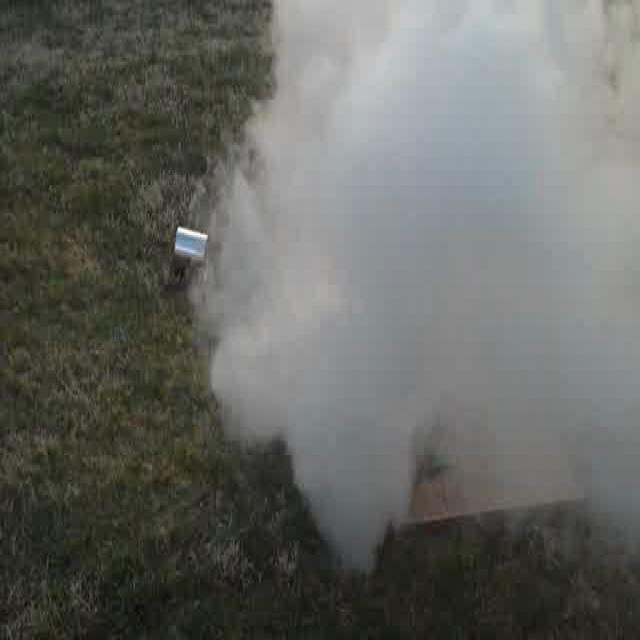Smoke: (226, 8, 640, 537)
